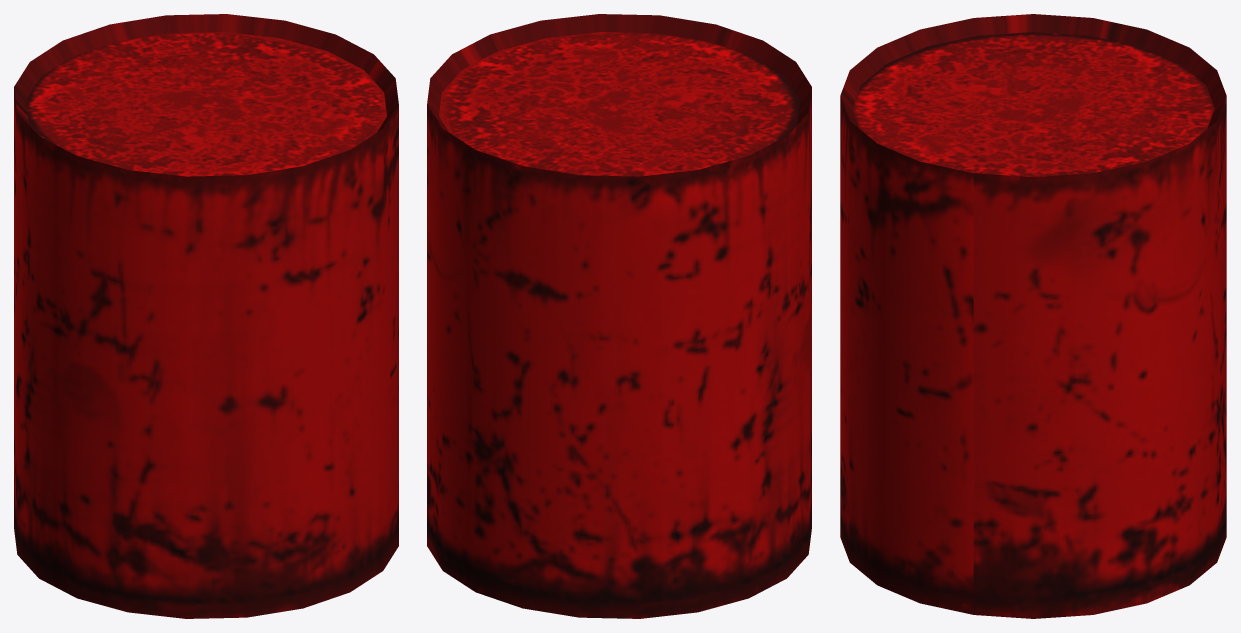
File: barrel_01.fbx
3 renders of one model, left to right at view 1: azimuth 30°, elevation 25°; view 2: azimuth 150°, elevation 25°; view 3: azimuth 270°, elevation 25°, orthographic.
Parts seen in each view (by area): view 1: barrel_01; view 2: barrel_01; view 3: barrel_01.
Part boxes in pixels (bbox=[...]): barrel_01: bbox=[14, 14, 398, 618]; barrel_01: bbox=[427, 14, 811, 618]; barrel_01: bbox=[840, 14, 1226, 618].
Bounding box in the file's own units: 0.6104 × 0.7702 × 0.6104.
